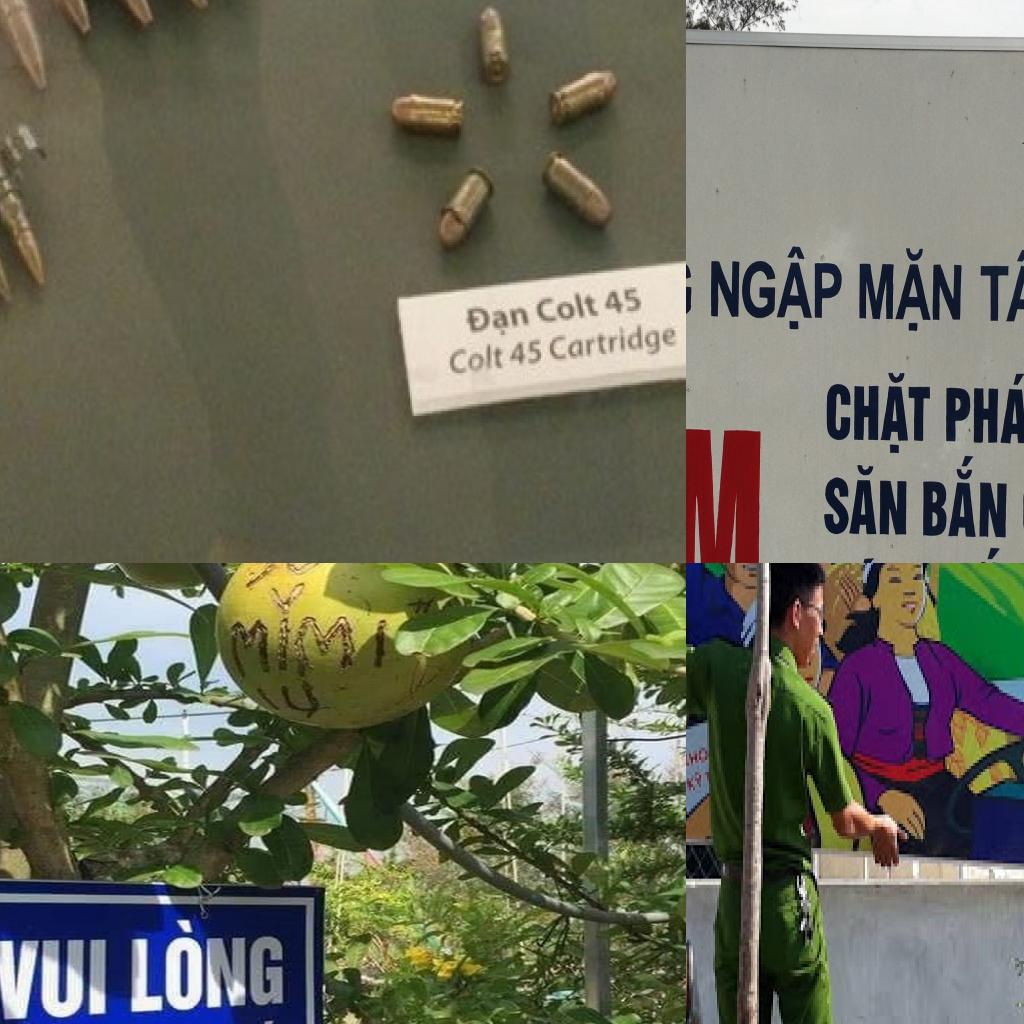text: (686, 356, 763, 563), (129, 916, 287, 1015), (710, 242, 843, 333), (224, 614, 392, 683), (0, 937, 112, 1023), (858, 245, 963, 334), (825, 368, 931, 454), (923, 454, 1008, 538), (822, 464, 908, 536), (945, 368, 1024, 445), (237, 563, 384, 592), (457, 294, 541, 342), (978, 248, 1024, 323), (530, 287, 610, 330), (249, 678, 328, 717), (446, 335, 508, 382), (600, 282, 648, 323), (510, 335, 547, 373), (949, 545, 1024, 563), (686, 741, 711, 772), (686, 765, 705, 799)
